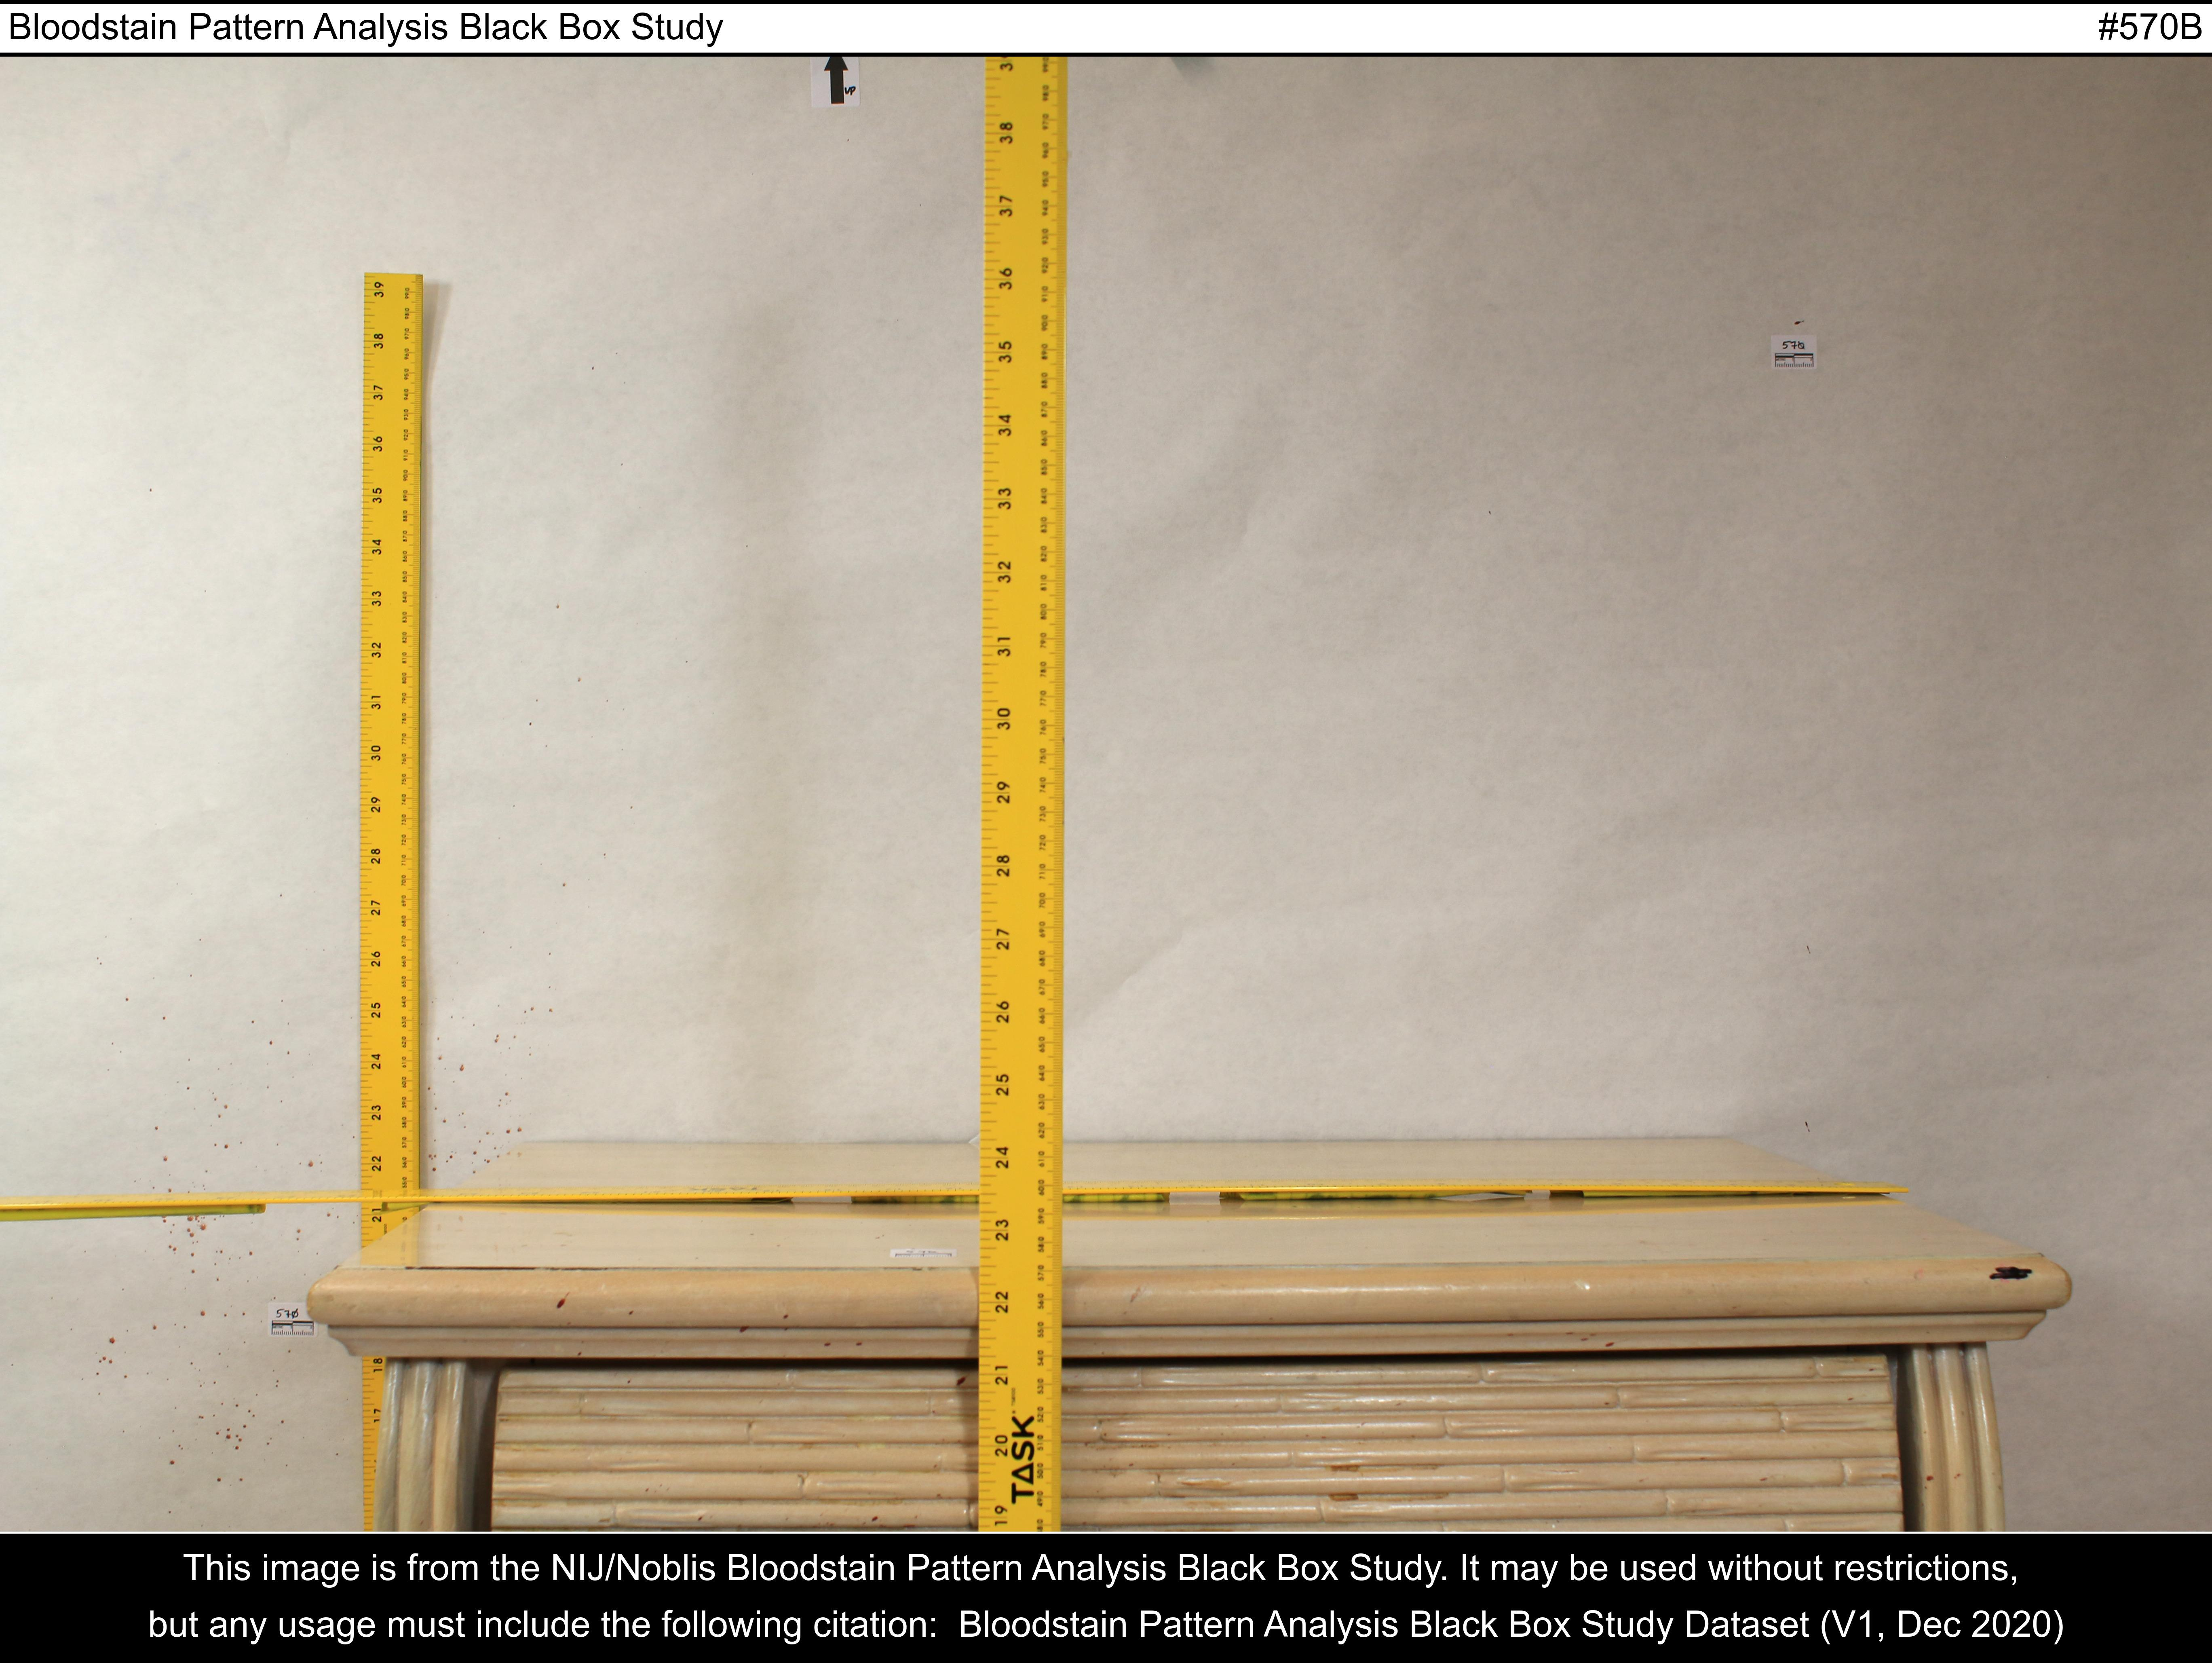Impact: (526, 1289, 958, 1520), (72, 1228, 304, 1504)
